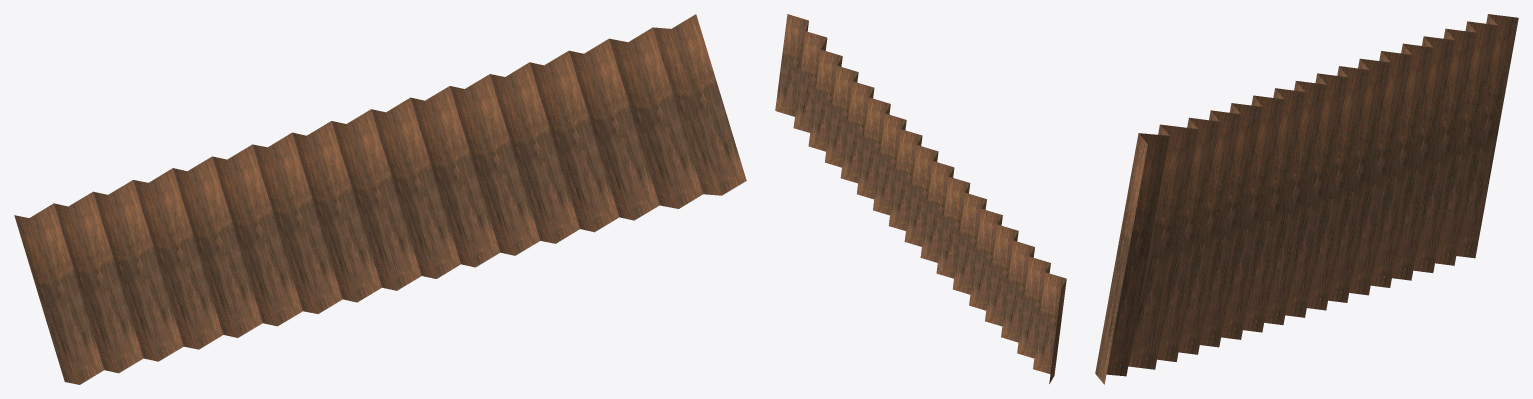
3 views of the same model, side by side, from view 1: azimuth 30°, elevation 25°; view 2: azimuth 150°, elevation 25°; view 3: azimuth 270°, elevation 25° (orthographic). The views are drawn at different scales.
Visible parts, largest first — view 1: Box286; view 2: Box286; view 3: Box286.
Part boxes in pixels (x1=…): Box286: x1=14, y1=14, x2=746, y2=384; Box286: x1=775, y1=14, x2=1066, y2=383; Box286: x1=1095, y1=14, x2=1518, y2=384.
Bounding box in the file's own units: 139 × 76.66 × 66.05.
